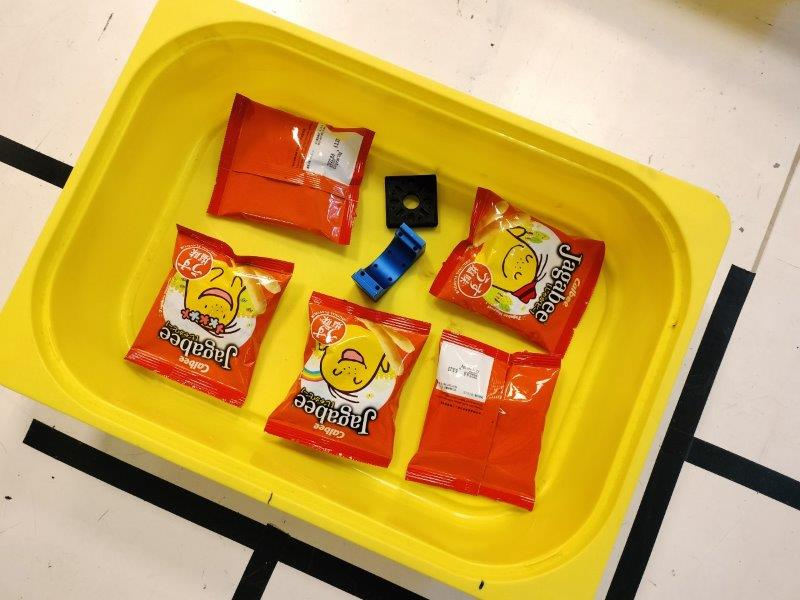Jagabee: (124, 225, 294, 406), (429, 188, 606, 356), (265, 291, 428, 468), (406, 332, 562, 507), (205, 93, 375, 246)
